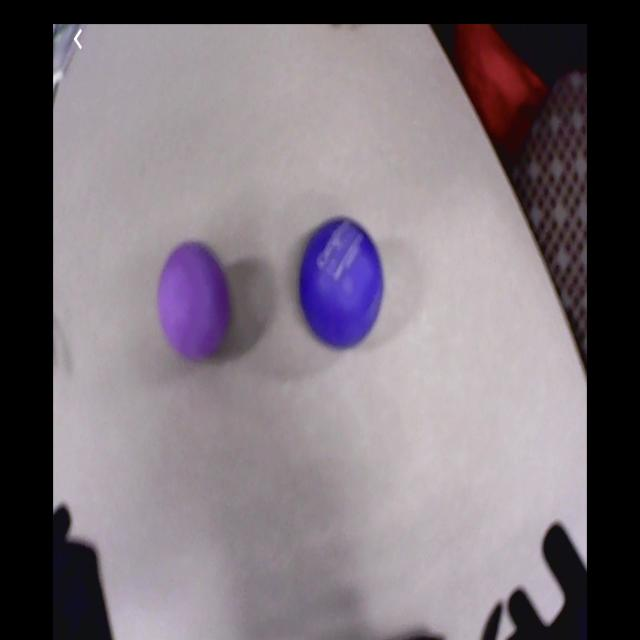ball: (300, 217, 384, 345), (156, 236, 234, 356)
